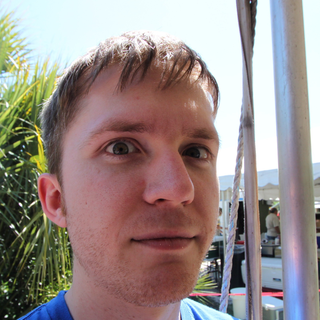eye: (93, 133, 147, 162), (174, 138, 216, 168)
